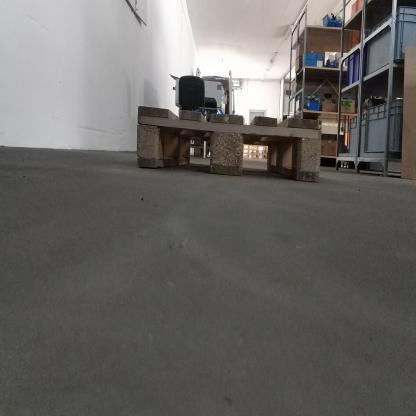BoxFace: (131, 97, 324, 192)
